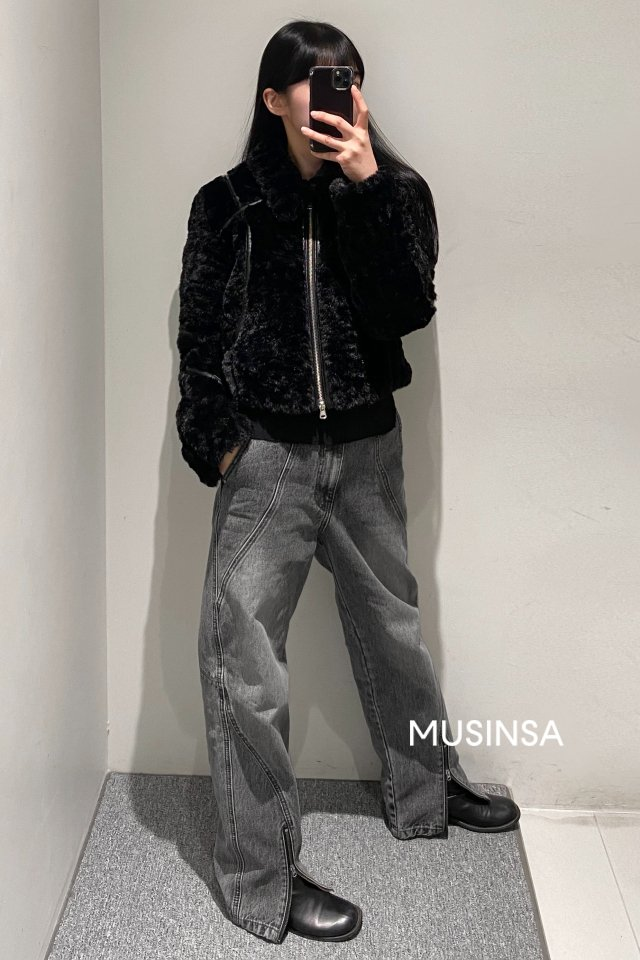Jeans: (205, 412, 476, 914)
Outer: (156, 143, 449, 482)
Shoes: (271, 769, 530, 946)
